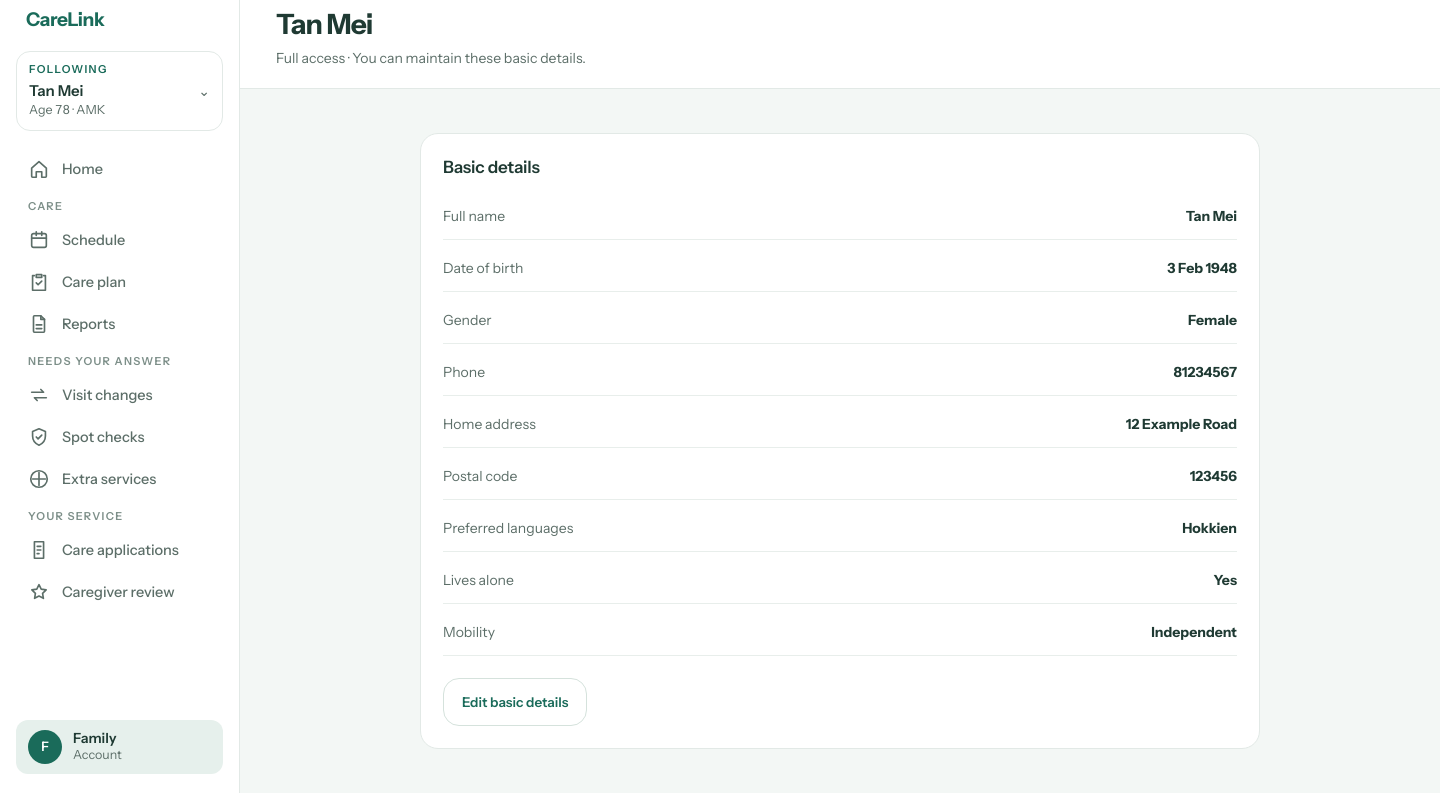
Test: My elders and basic details › keeps the draft and reports a failed save without a success notice
(page scrolled)
Step 1. Click the button "Edit basic details" → (515, 702), box [443,678,587,726]
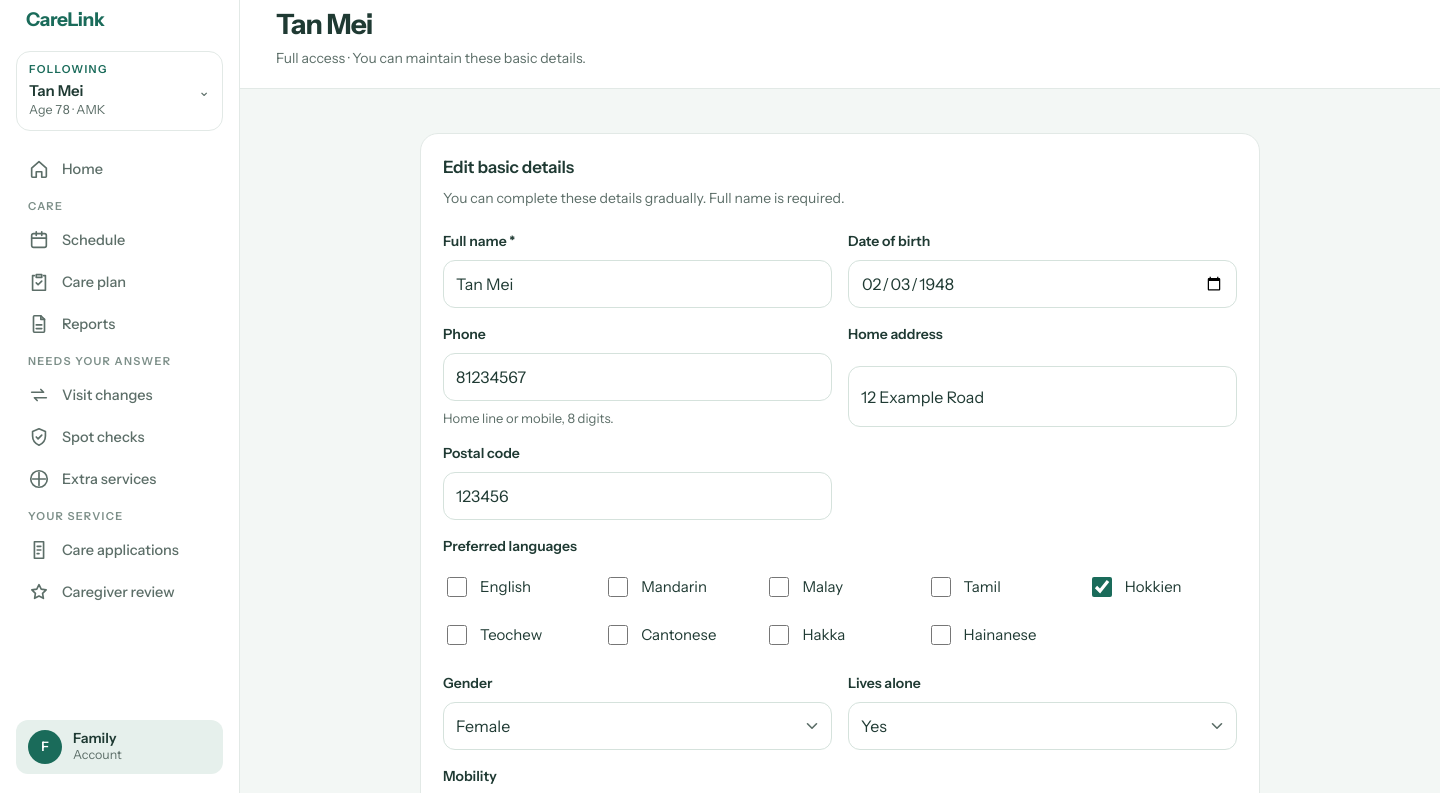
Step 2. Replace the text in the field labelled "Full name *" with "Unsaved name" → (638, 284), box [443,260,832,308]
(page scrolled)
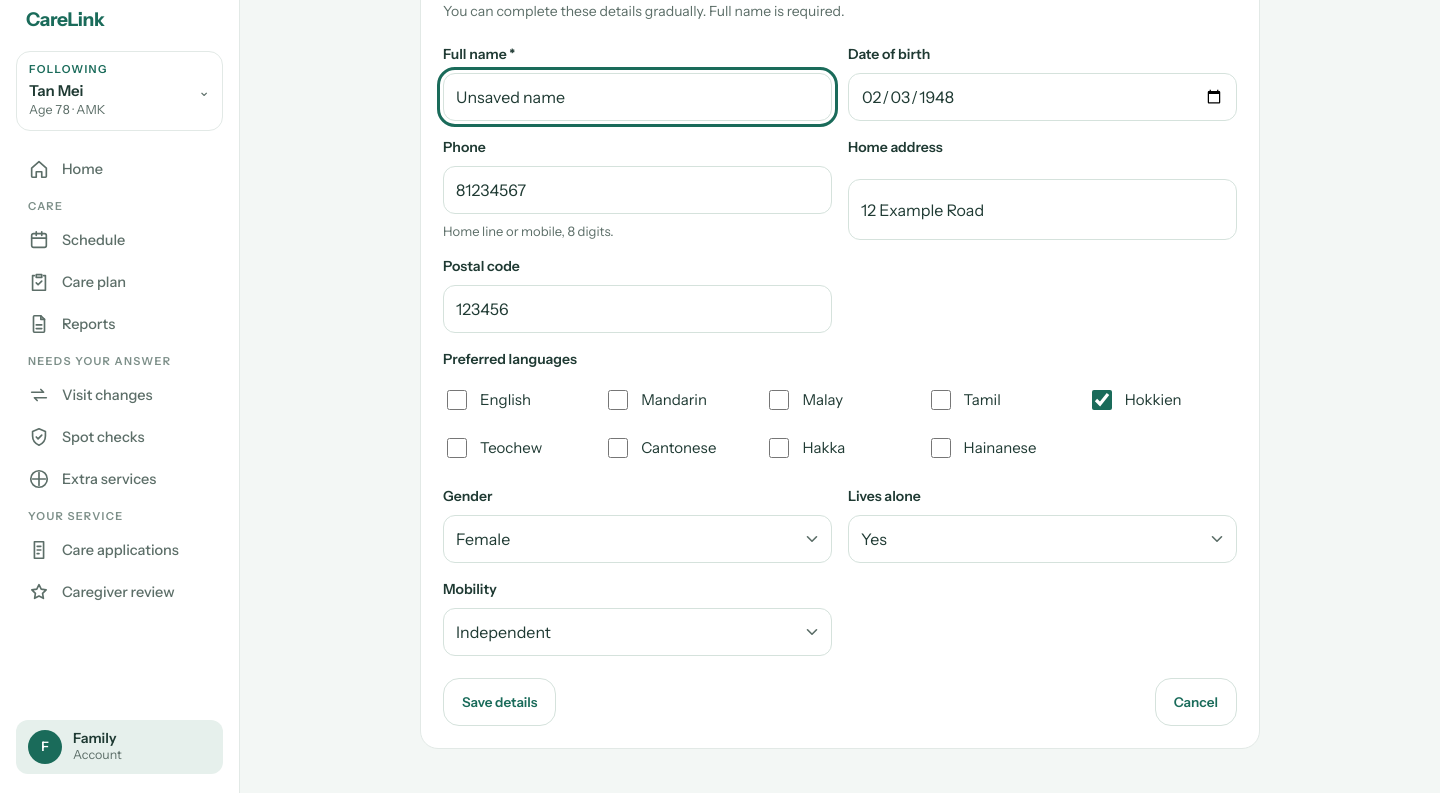
Step 3. Click the button "Save details" → (500, 702), box [443,678,556,726]
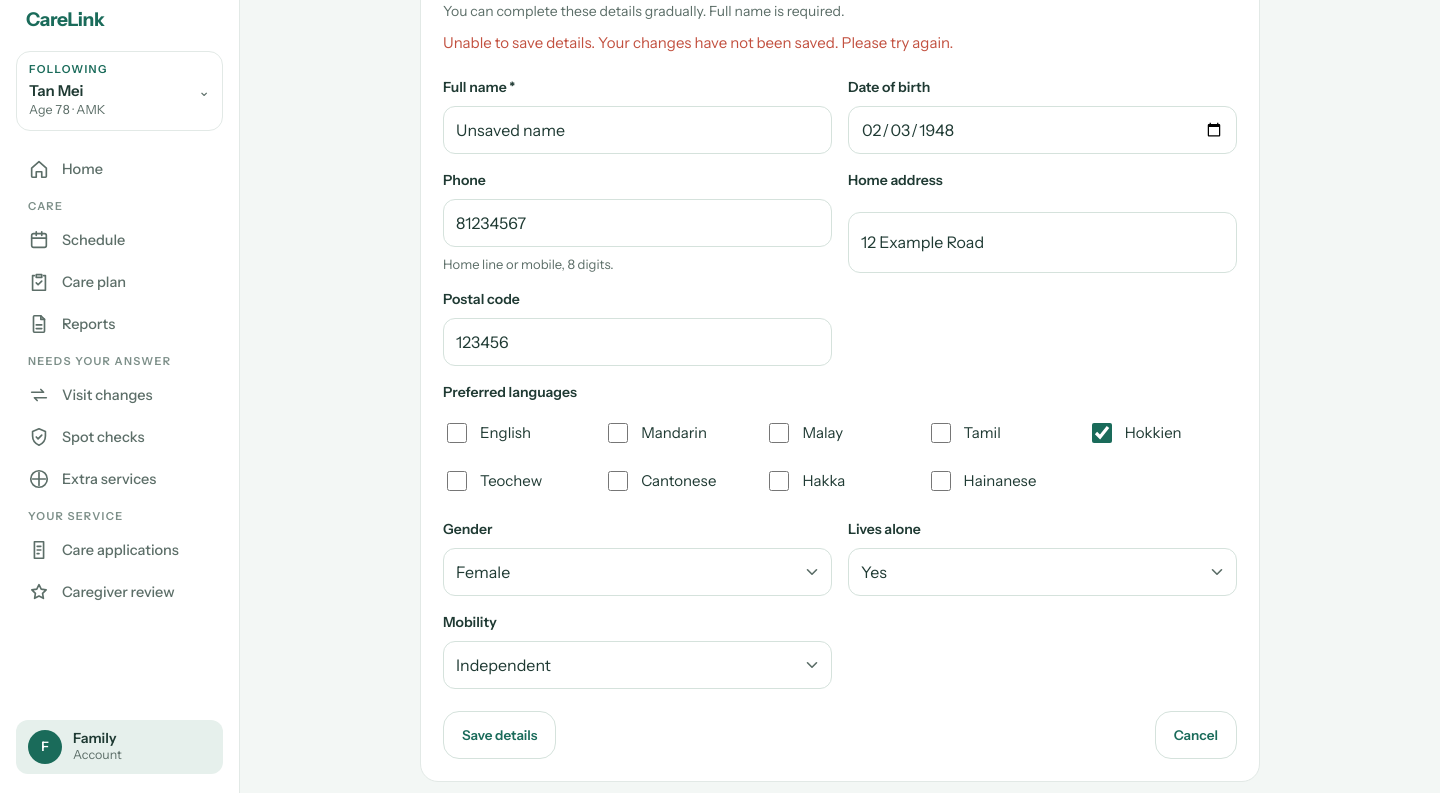
Expected: the text "Tan Mei" is shown, [29,80,84,99]
Expected: the message shows "Your changes have not been saved", [443,33,953,52]
